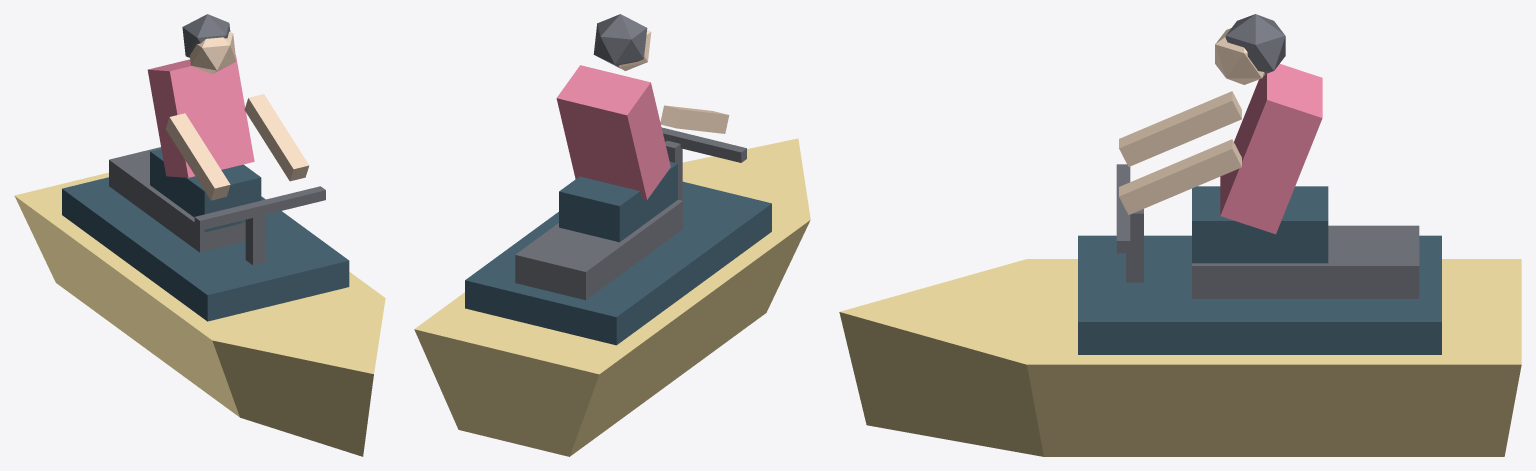
Rendered from JetSki.fbx.
3 views of the same model, side by side, from view 1: azimuth 30°, elevation 25°; view 2: azimuth 150°, elevation 25°; view 3: azimuth 270°, elevation 25° (orthographic). The views are drawn at different scales.
Parts seen in each view (by area): view 1: JetSki; view 2: JetSki; view 3: JetSki.
Boxes of the visible parts, x1,y1,x2,y2 form: JetSki: [14, 14, 385, 456]; JetSki: [414, 14, 810, 456]; JetSki: [839, 14, 1521, 456].
Bounding box in the file's own units: 1.1 × 2 × 3.
